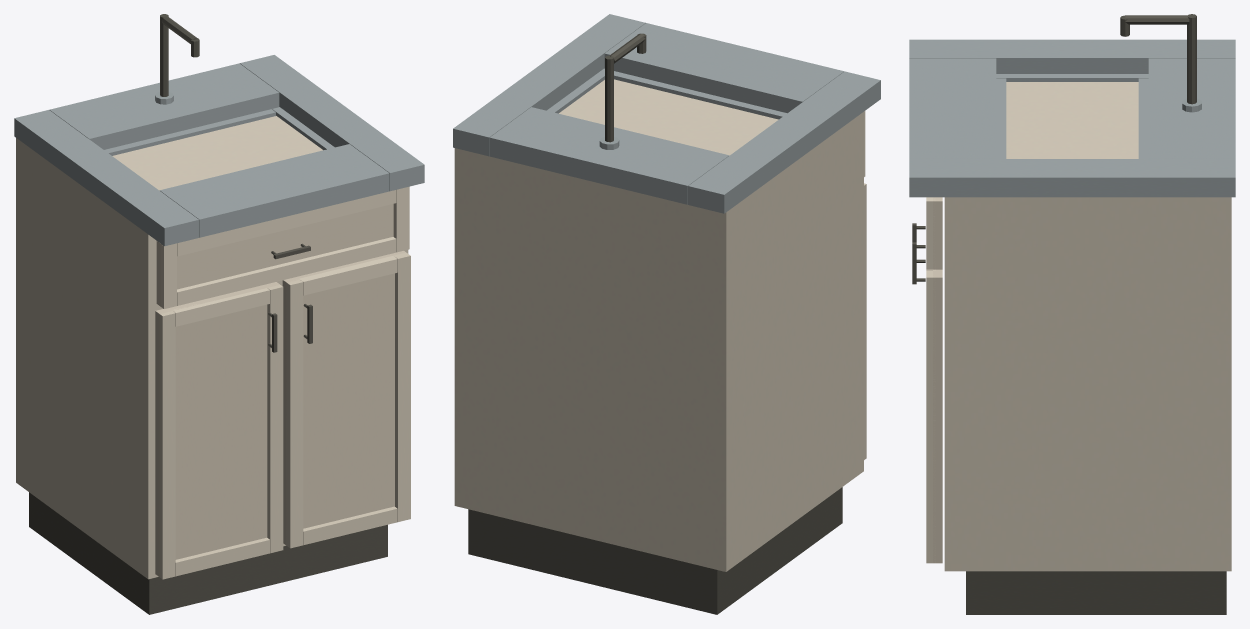
Rendered from sink.glb.
The picture shows the model from 3 angles, left to right: view 1: azimuth 30°, elevation 25°; view 2: azimuth 150°, elevation 25°; view 3: azimuth 270°, elevation 25°; orthographic projection. The views are drawn at different scales.
Visible parts, largest first — view 1: home_sink; view 2: home_sink; view 3: home_sink.
Part boxes in pixels (x1=…): home_sink: x1=14, y1=14, x2=424, y2=614; home_sink: x1=453, y1=14, x2=880, y2=614; home_sink: x1=909, y1=14, x2=1235, y2=614.
Bounding box in the file's own units: 0.6 × 1.09 × 0.6.
Materials: 1 (1 with a texture image).
